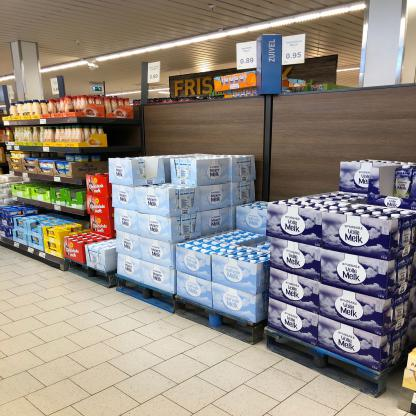prtg: (282, 34, 307, 66), (237, 41, 258, 71), (148, 62, 161, 84)
